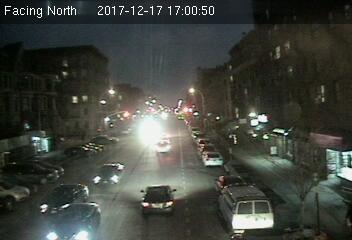car: (139, 183, 178, 217), (91, 162, 125, 190), (153, 139, 172, 155), (204, 151, 223, 166)
police: (216, 182, 277, 233)
